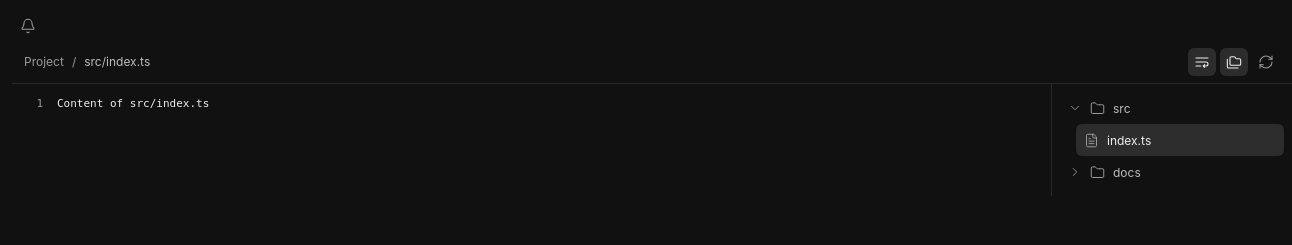
expands the selected file's ancestors and reads other folders only when opened
This screenshot has width=1292, height=245.
What coordinates should you click on to do the following:
click the button "docs"
I would click on:
 (1172, 172)
Its box is [1060,156,1284,188].
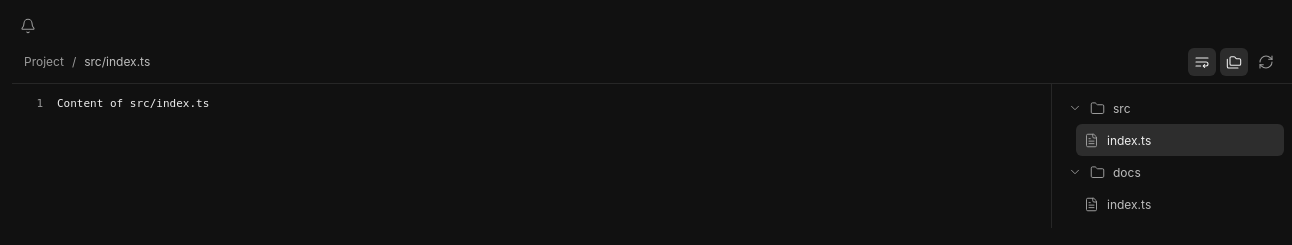
Expected: the number of buttons "index.ts" is 2, [1076,124,1284,156]; [1076,188,1284,220]
What coordinates should you click on to do the following:
click the button named "隐藏文件树"
I would click on:
 (1234, 62)
Its box is [1220,48,1248,76].
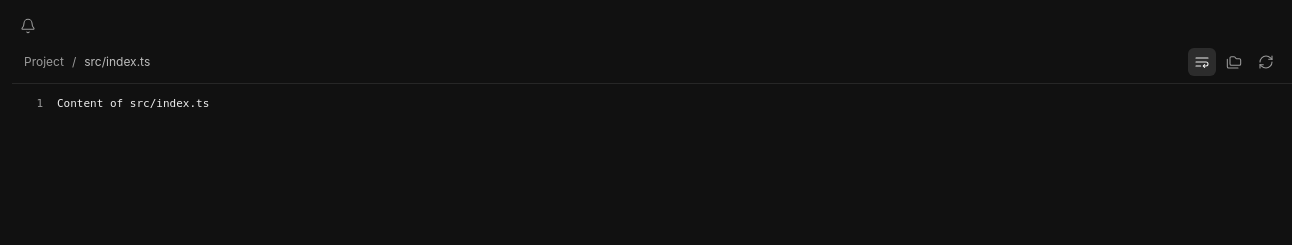
What coordinates should you click on to do the following:
click the button named "显示文件树"
I would click on:
 (1234, 62)
Its box is [1220,48,1248,76].
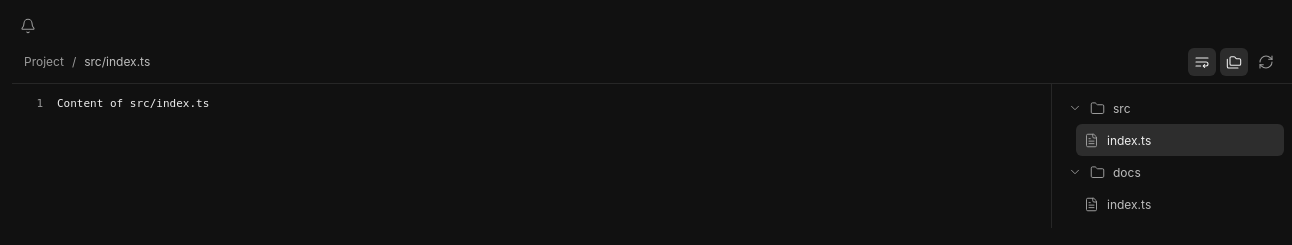
Expected: the button "docs" is expanded, [1060,156,1284,188]
What coordinates should you click on to do the following:
click the 2nd button "index.ts"
I would click on:
 (1180, 204)
Its box is [1076,188,1284,220].
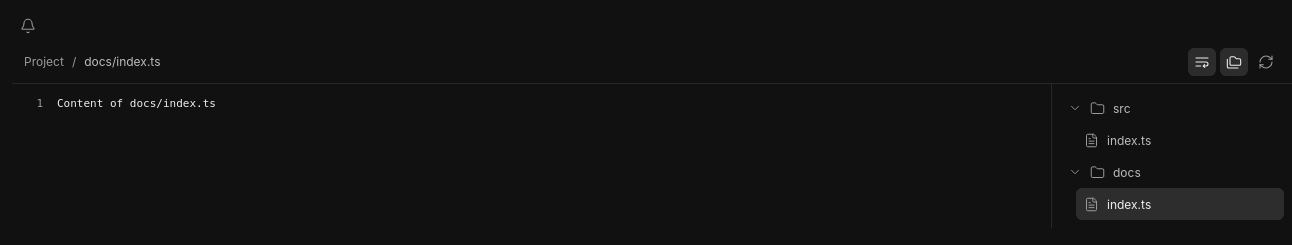
Expected: the text "Content of docs/index.ts" is shown, [57,97,216,110]
What coordinates should you click on to do the following:
click the button with aria-label "返回项目目录"
I would click on:
 (44, 62)
Its box is [24,48,64,76].
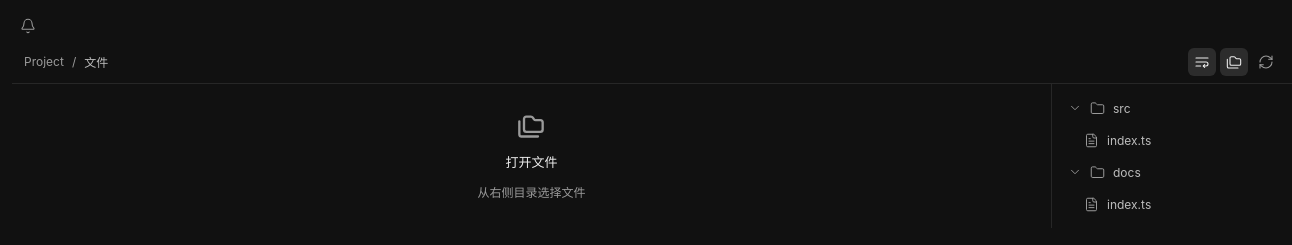
Expected: the number of buttons "index.ts" is 2, [1076,124,1284,156]; [1076,188,1284,220]
Expected: the button "docs" is expanded, [1060,156,1284,188]
Expected: the text "从右侧目录选择文件" is shown, [478,183,586,200]
